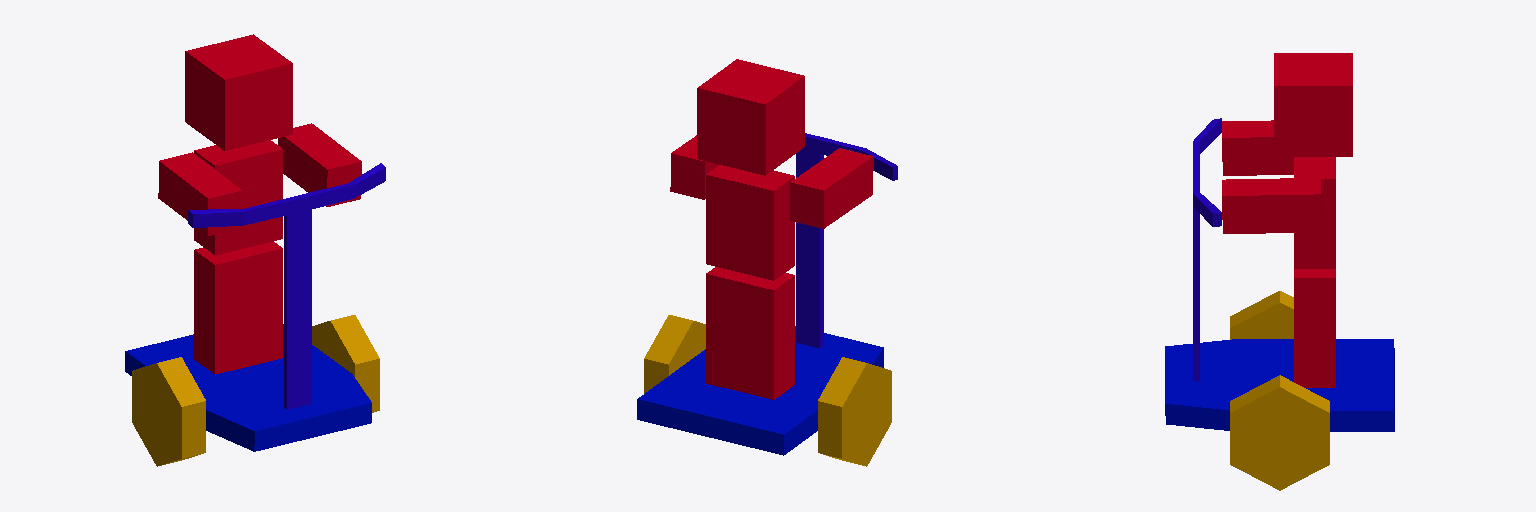
The model's file is SegModel_Big.obj.
3 views of the same model, side by side, from view 1: azimuth 30°, elevation 25°; view 2: azimuth 150°, elevation 25°; view 3: azimuth 270°, elevation 25° (orthographic).
Parts seen in each view (by area): view 1: Steave_立方体.001, Base_Cube, Hoile6_円柱.001, Grip_立方体; view 2: Steave_立方体.001, Base_Cube, Hoile6_円柱.001, Grip_立方体; view 3: Steave_立方体.001, Base_Cube, Hoile6_円柱.001, Grip_立方体.
Part boxes in pixels (bbox=[...]): Steave_立方体.001: bbox=[158, 34, 361, 374]; Base_Cube: bbox=[125, 324, 371, 451]; Hoile6_円柱.001: bbox=[132, 315, 379, 466]; Grip_立方体: bbox=[188, 163, 385, 409]; Steave_立方体.001: bbox=[670, 59, 873, 399]; Base_Cube: bbox=[637, 326, 883, 455]; Hoile6_円柱.001: bbox=[644, 315, 891, 466]; Grip_立方体: bbox=[796, 133, 897, 348]; Steave_立方体.001: bbox=[1222, 53, 1352, 387]; Base_Cube: bbox=[1165, 339, 1394, 431]; Hoile6_円柱.001: bbox=[1230, 291, 1329, 490]; Grip_立方体: bbox=[1193, 118, 1221, 380].
Size of the model in its own units: 16 by 28.75 by 16.02.